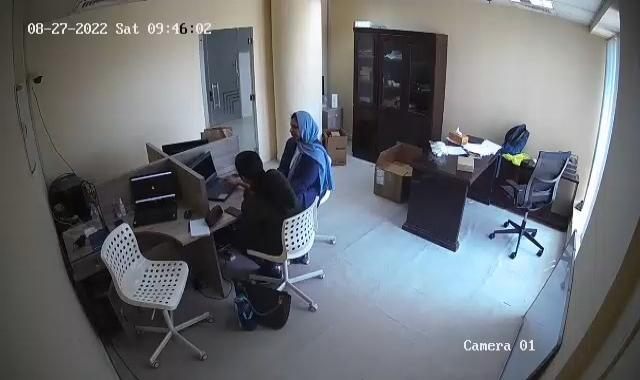no_hairnet: (287, 110, 319, 148), (233, 148, 266, 180)
